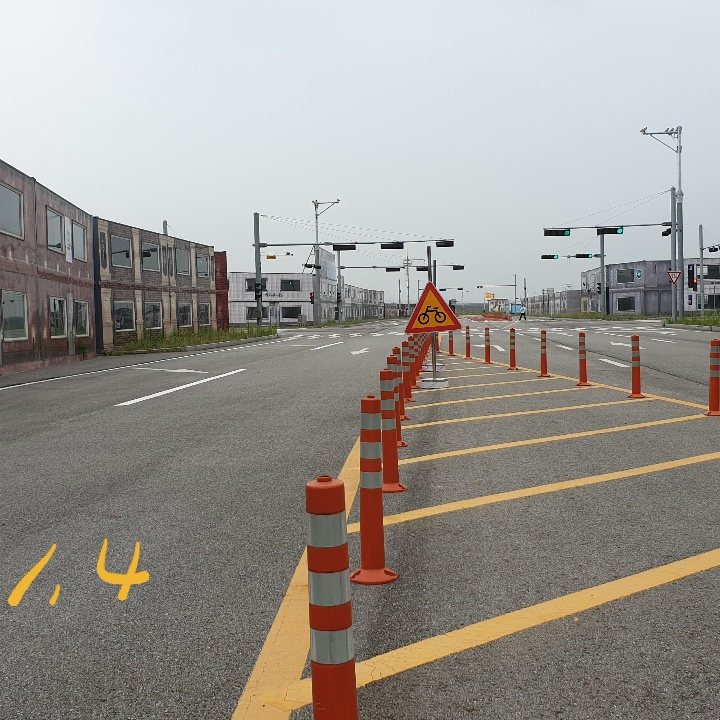bicycle: (406, 284, 462, 331)
